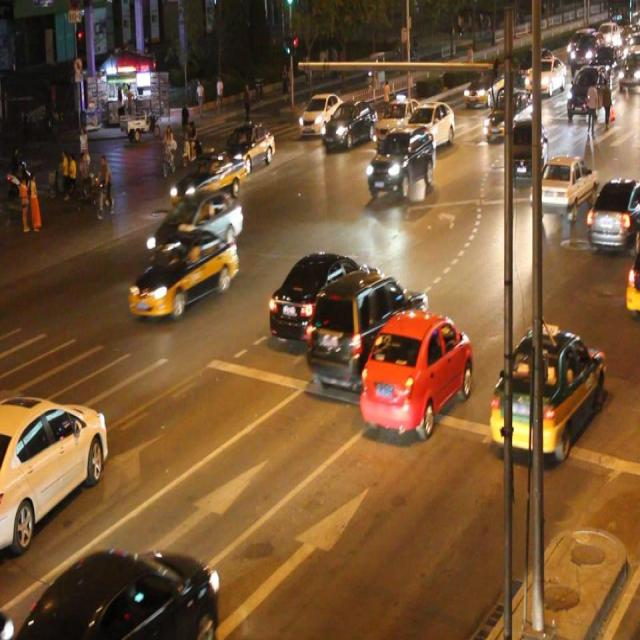car: (20, 546, 220, 640), (0, 396, 109, 545), (491, 328, 604, 448), (358, 308, 469, 429), (304, 268, 424, 374), (268, 249, 378, 341), (128, 226, 238, 316), (146, 189, 243, 263), (364, 126, 434, 192), (585, 176, 640, 248), (529, 154, 596, 212), (170, 152, 245, 202), (504, 115, 547, 175), (321, 99, 375, 146), (219, 124, 274, 170), (406, 101, 454, 149), (374, 98, 422, 143), (298, 92, 345, 134), (484, 88, 524, 134)
